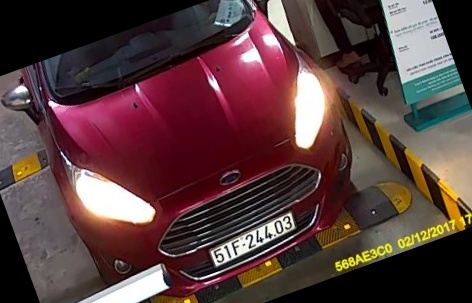plate: (197, 211, 305, 271)
